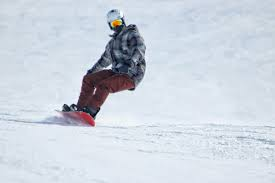snowboarder: (37, 2, 162, 134)
